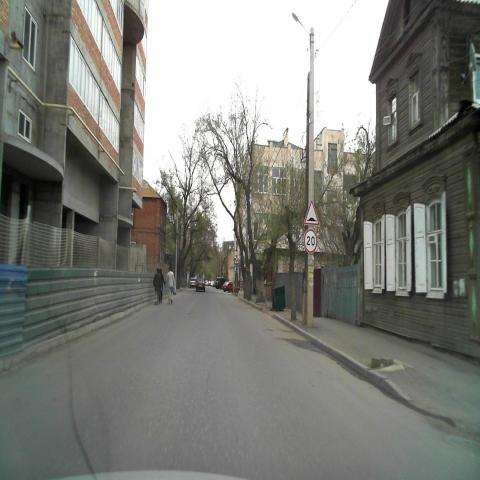1_17: (303, 200, 320, 226)
3_24: (304, 228, 317, 255)
